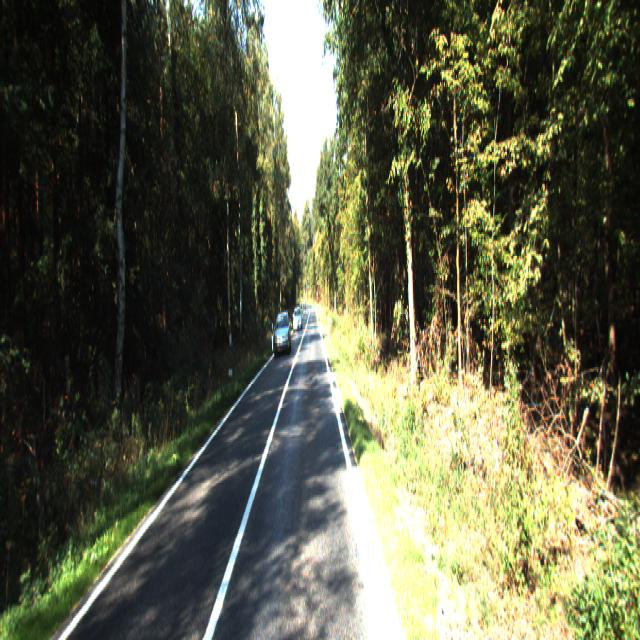Car: (272, 311, 291, 358)
DontCare: (292, 306, 304, 331)
